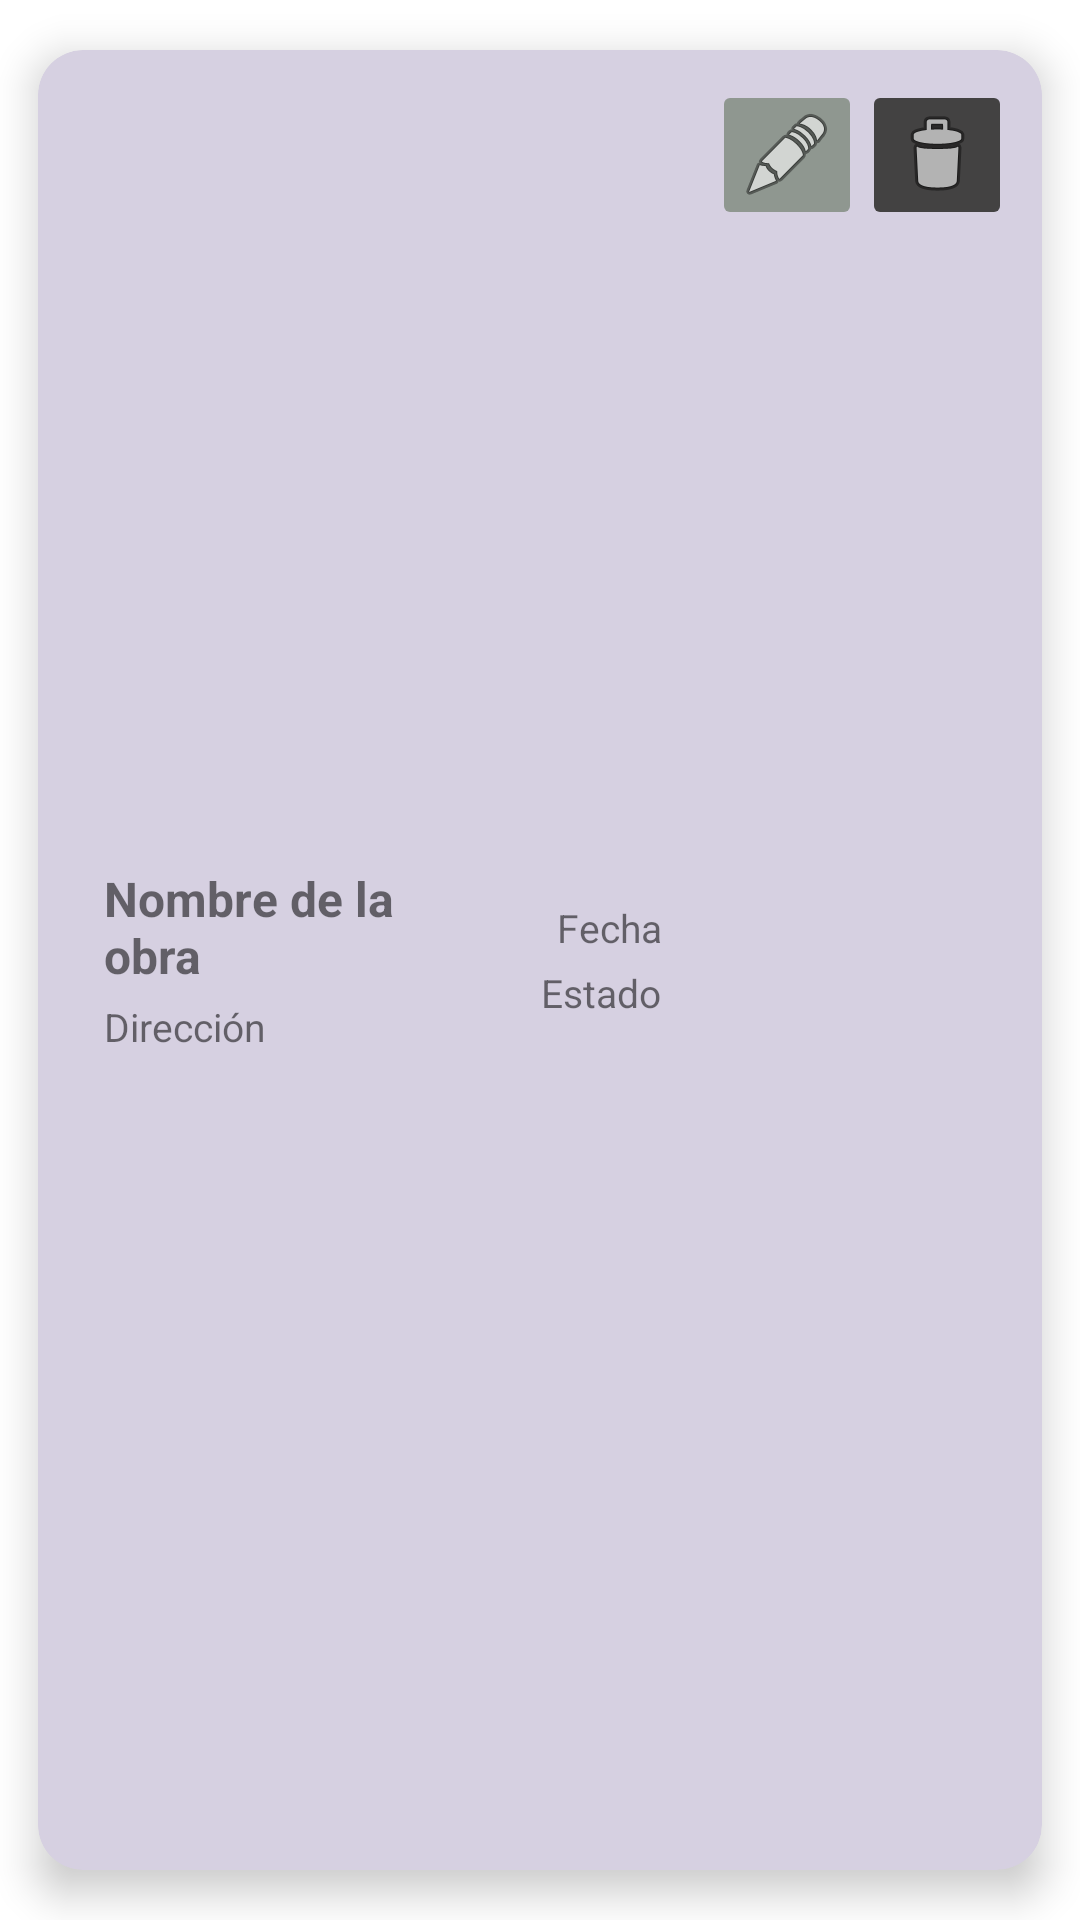

Icons on this 1080*1920 Android screen, each with its box as [x1, y1, x2, y2]:
delete: [874, 98, 1000, 212]
edit: [724, 98, 850, 212]
